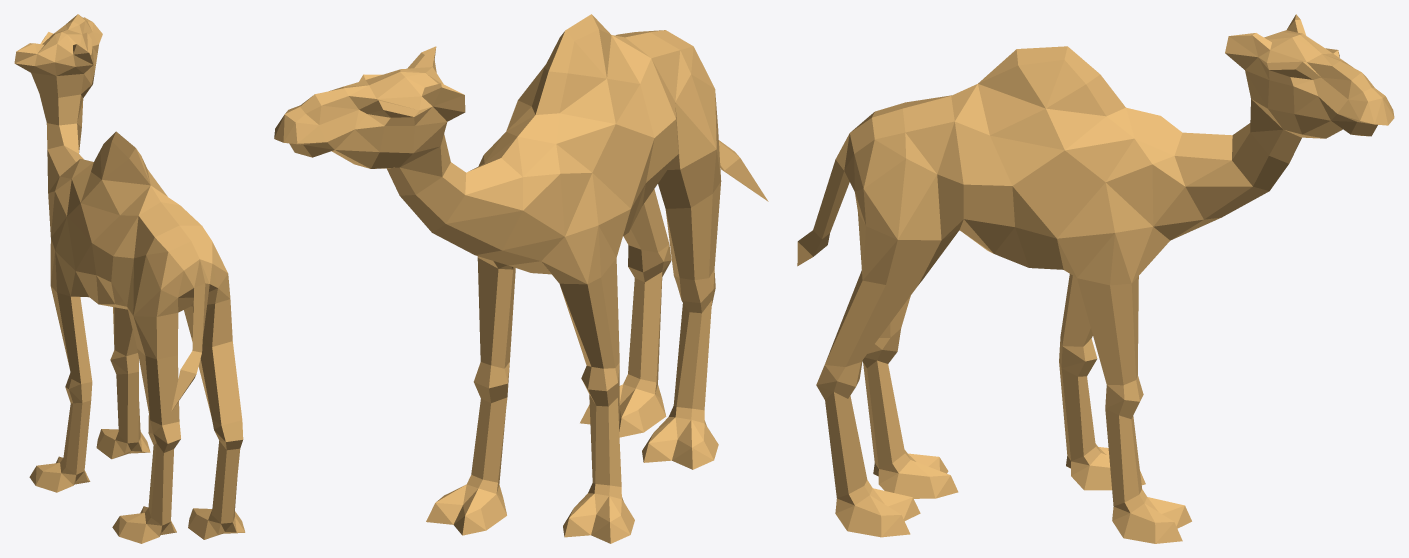
The model's file is camelB.FBX.
3 views of the same model, side by side, from view 1: azimuth 30°, elevation 25°; view 2: azimuth 150°, elevation 25°; view 3: azimuth 270°, elevation 25° (orthographic). The views are drawn at different scales.
Parts seen in each view (by area): view 1: camelB; view 2: camelB; view 3: camelB.
Boxes of the visible parts, x1,y1,x2,y2 form: camelB: [14, 14, 245, 543]; camelB: [274, 14, 768, 543]; camelB: [797, 14, 1394, 543].
Size of the model in its own units: 0.2409 by 0.5285 by 0.5825.
